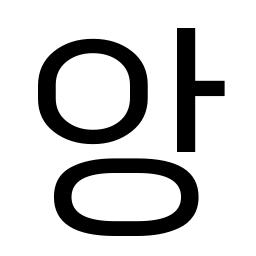Gaji: (161, 65, 210, 113)
